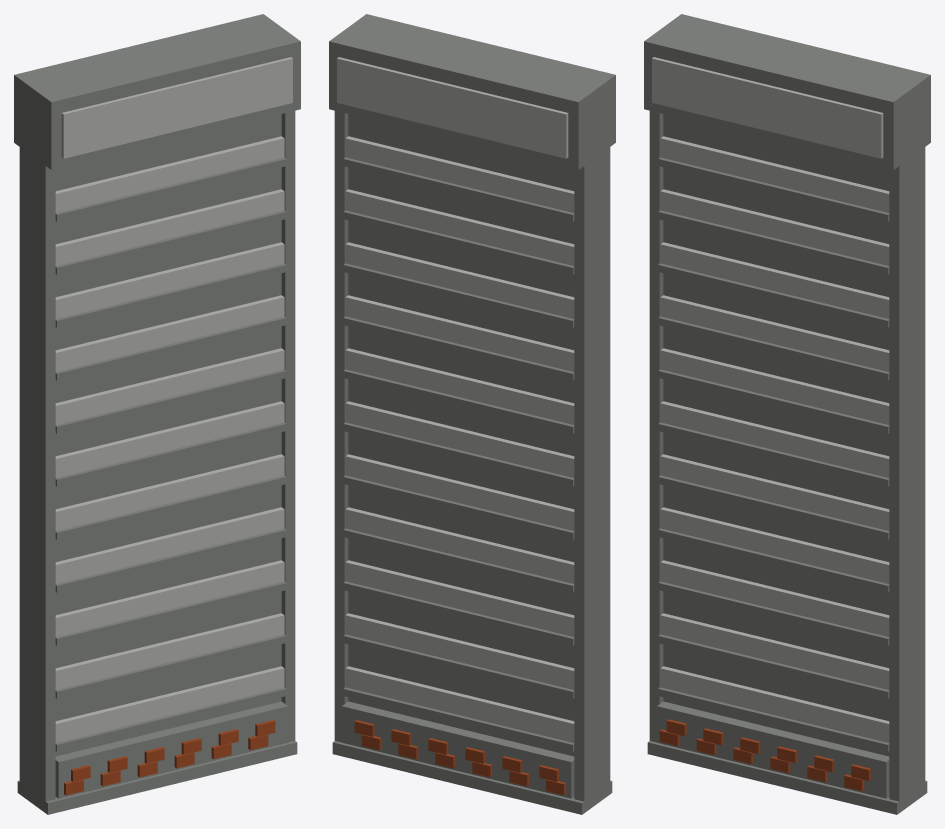
The model's file is CMU3DAlmayerRollingShutter.glb.
3 views of the same model, side by side, from view 1: azimuth 30°, elevation 25°; view 2: azimuth 150°, elevation 25°; view 3: azimuth 330°, elevation 25° (orthographic).
Parts seen in each view (by area): view 1: rolling sheet, horizontal shutter slat (×11), shutter guide (×2), lower slat fold (×11), upper roll housing, headbox face, bottom bar, threshold; view 2: rolling sheet, horizontal shutter slat (×11), shutter guide (×2), lower slat fold (×11), upper roll housing, headbox face back, bottom bar, threshold; view 3: rolling sheet, horizontal shutter slat (×11), shutter guide (×2), lower slat fold (×11), upper roll housing, headbox face, bottom bar, threshold.
Boxes of the visible parts, <box> form: rolling sheet: <box>55,114,281,756</box>; horizontal shutter slat (×11): <box>55,136,284,742</box>; shutter guide (×2): <box>19,103,295,812</box>; lower slat fold (×11): <box>55,157,286,751</box>; upper roll housing: <box>14,14,300,169</box>; headbox face: <box>61,57,292,158</box>; bottom bar: <box>55,701,287,798</box>; threshold: <box>17,741,297,814</box>; rolling sheet: <box>348,114,574,756</box>; horizontal shutter slat (×11): <box>345,136,574,742</box>; shutter guide (×2): <box>334,109,610,812</box>; lower slat fold (×11): <box>343,157,574,751</box>; upper roll housing: <box>329,14,615,169</box>; headbox face back: <box>337,57,568,158</box>; bottom bar: <box>342,701,574,798</box>; threshold: <box>332,741,612,814</box>; rolling sheet: <box>663,114,889,756</box>; horizontal shutter slat (×11): <box>660,136,889,742</box>; shutter guide (×2): <box>649,106,925,812</box>; lower slat fold (×11): <box>658,157,889,751</box>; upper roll housing: <box>644,14,930,169</box>; headbox face: <box>652,57,883,158</box>; bottom bar: <box>657,701,889,798</box>; threshold: <box>647,741,927,814</box>.
Bounding box in the file's own units: 1 × 2.74 × 0.29.
